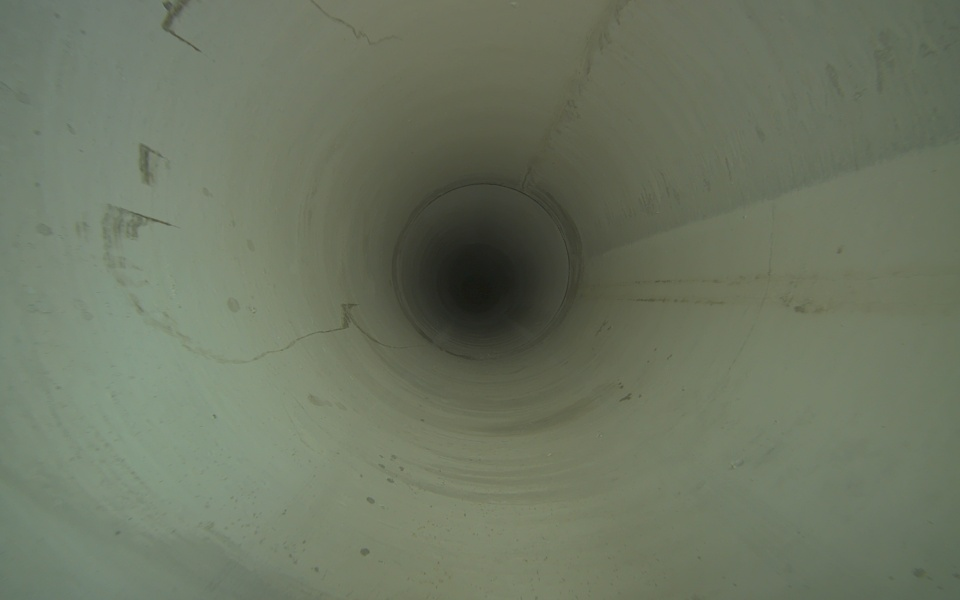circle1: (389, 180, 574, 361)
circle2: (448, 252, 511, 314)
